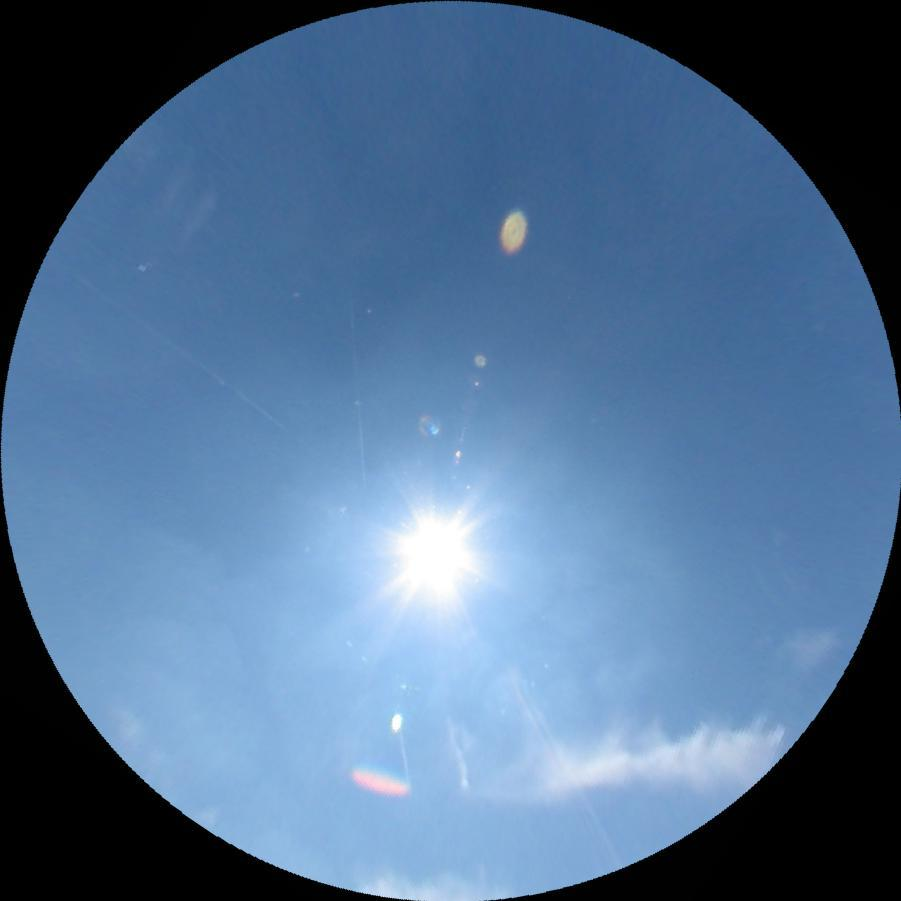contrail young: (341, 300, 411, 795)
parasite: (43, 250, 284, 427), (523, 690, 624, 868), (511, 685, 558, 774)
sun: (397, 511, 470, 594)
